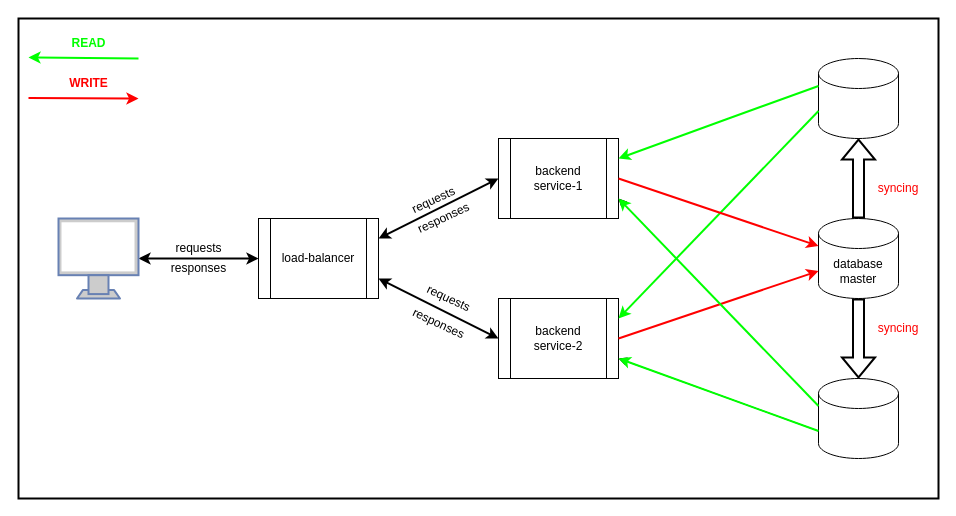
Some shapes in this 956 by 516 pixel diagram are drawn without their labels. The centre of each missing label's shape, as x and y in pixels:
"database slave-1" belongs at point (858, 98).
"database slave-2" belongs at point (858, 418).
